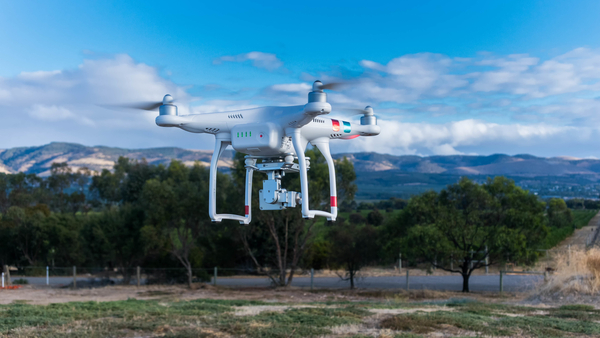drone: (115, 78, 383, 225)
